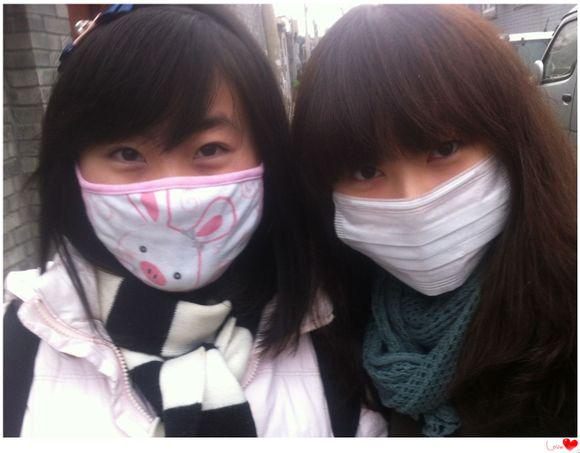OK: (84, 94, 268, 278), (337, 137, 512, 294)
